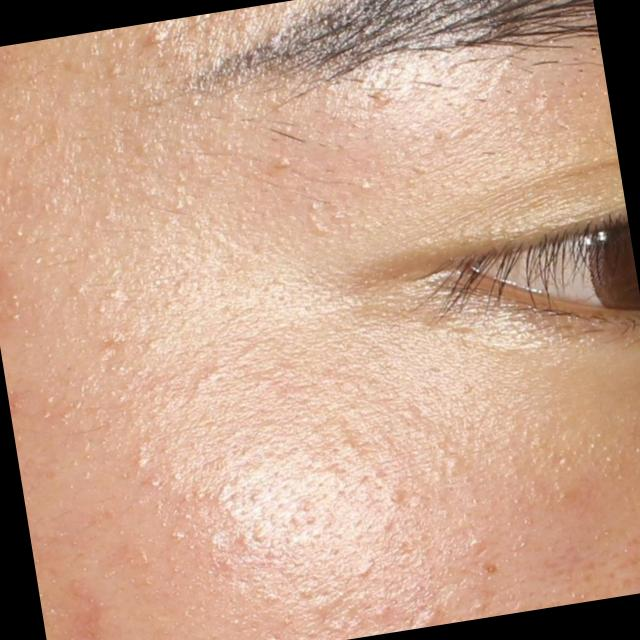blackhead: (486, 566, 496, 573)
